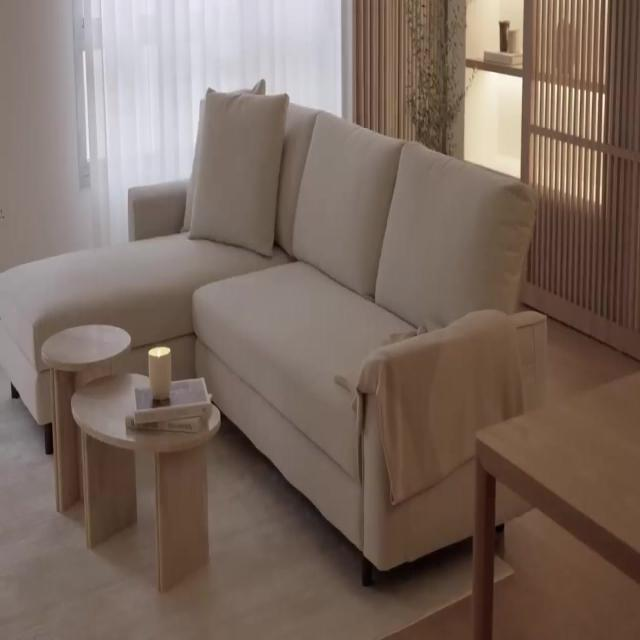obstacle: (0, 84, 548, 586), (70, 370, 221, 592), (40, 322, 132, 514)
